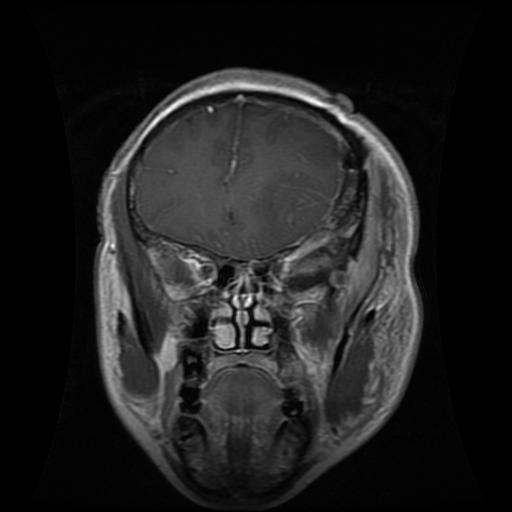Gliomia_tumour: (255, 171, 335, 255)
